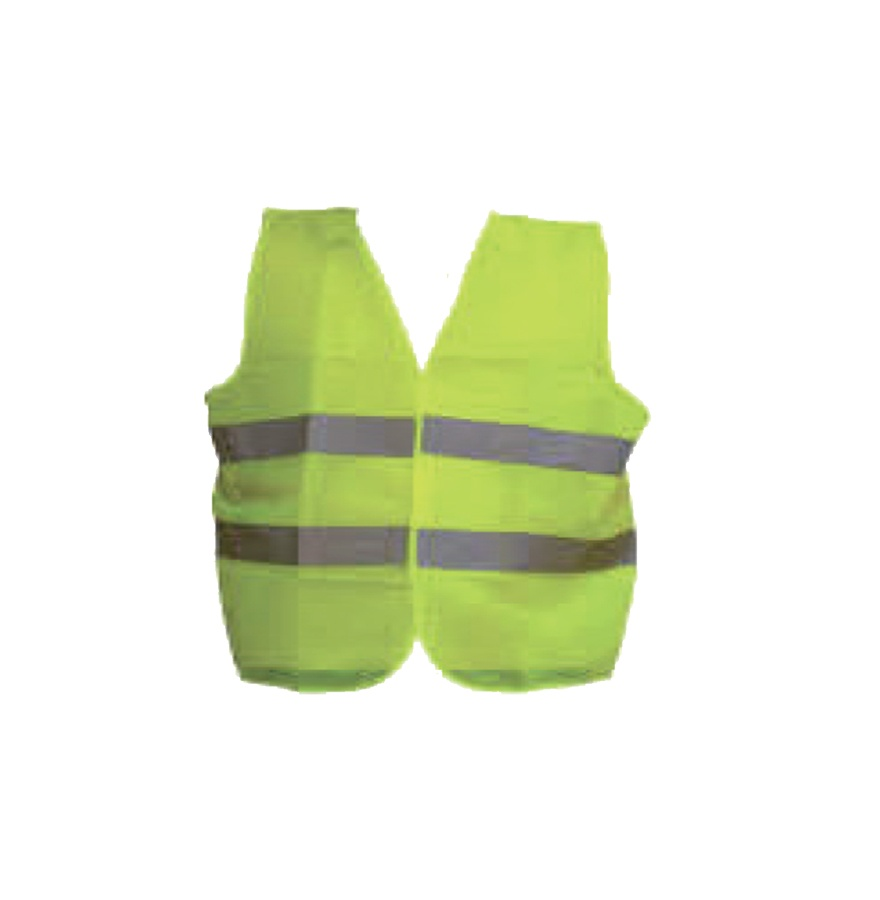safety vest: (204, 205, 654, 693)
